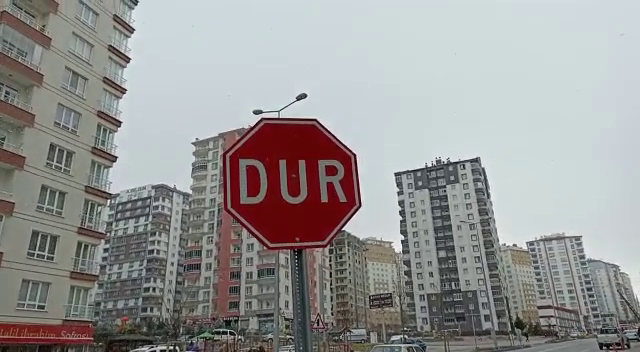stop: (219, 114, 367, 253)
